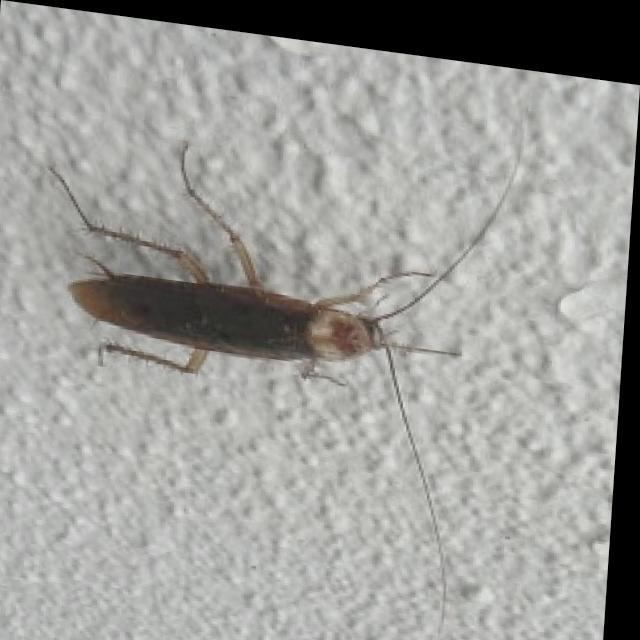cockroach: (46, 118, 530, 416)
